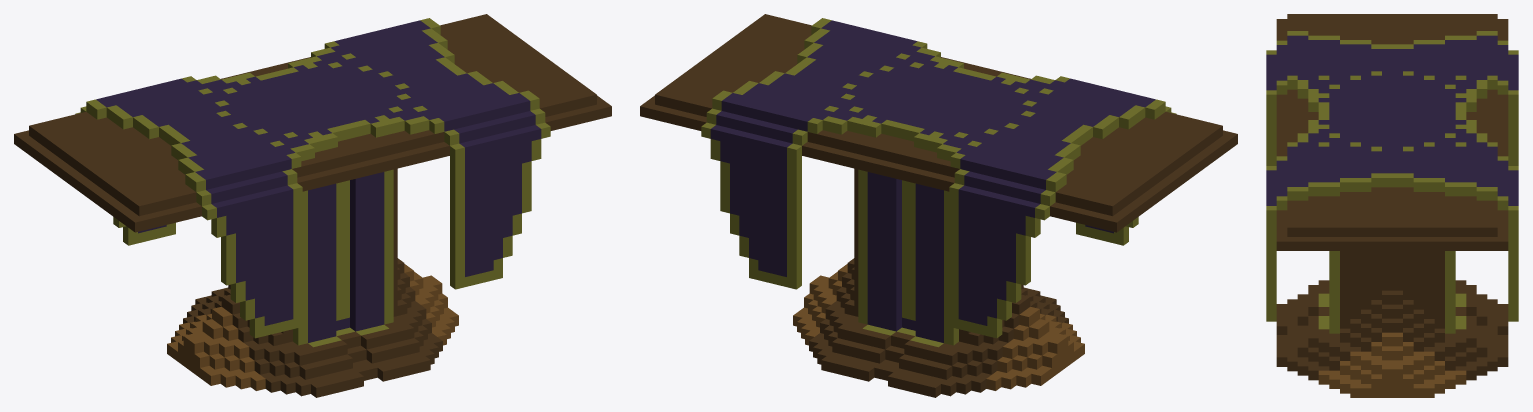
File: WizardTable2.obj
The picture shows the model from 3 angles, left to right: view 1: azimuth 30°, elevation 25°; view 2: azimuth 150°, elevation 25°; view 3: azimuth 270°, elevation 25°; orthographic projection. The views are drawn at different scales.
Visible parts, largest first — view 1: WizardTable2; view 2: WizardTable2; view 3: WizardTable2.
Boxes of the visible parts, <box> form: WizardTable2: <box>14,14,611,397</box>; WizardTable2: <box>640,14,1237,397</box>; WizardTable2: <box>1266,14,1518,397</box>.
Size of the model in its own units: 50 by 24 by 24.
1 material, 1 textured.
